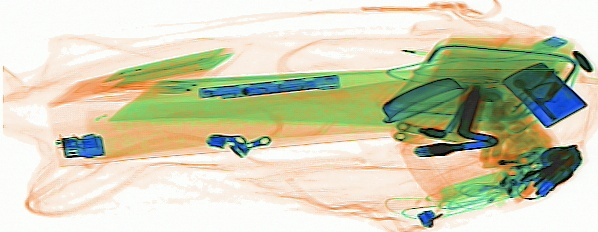lighter: (499, 60, 588, 128), (481, 144, 547, 168)
